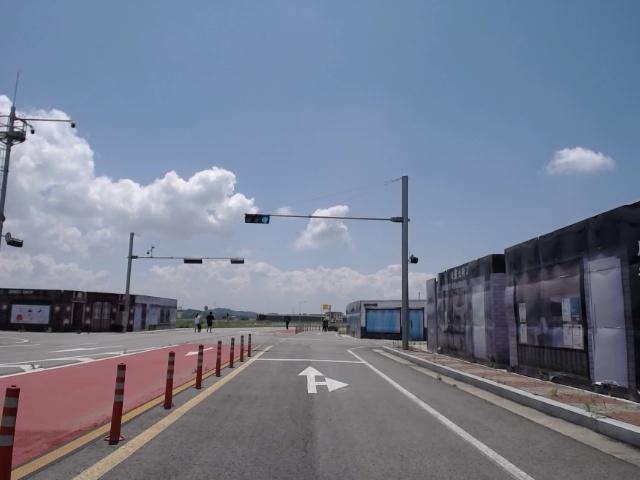green_3: (244, 215, 269, 223)
